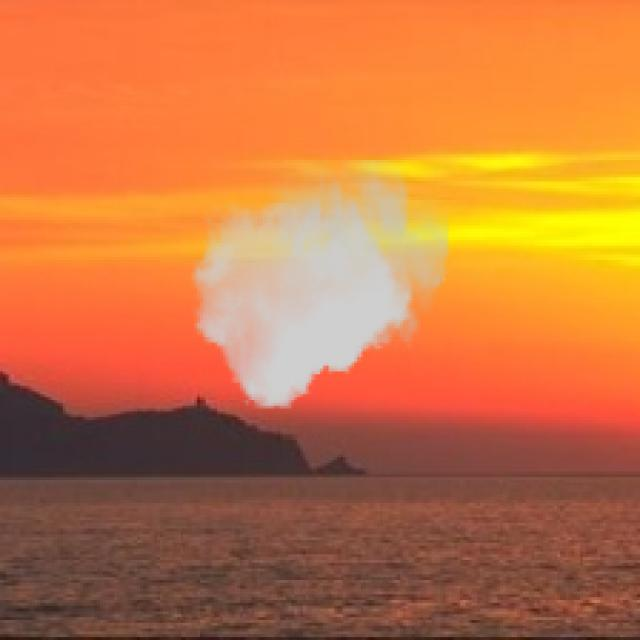smoke: (192, 160, 448, 409)
